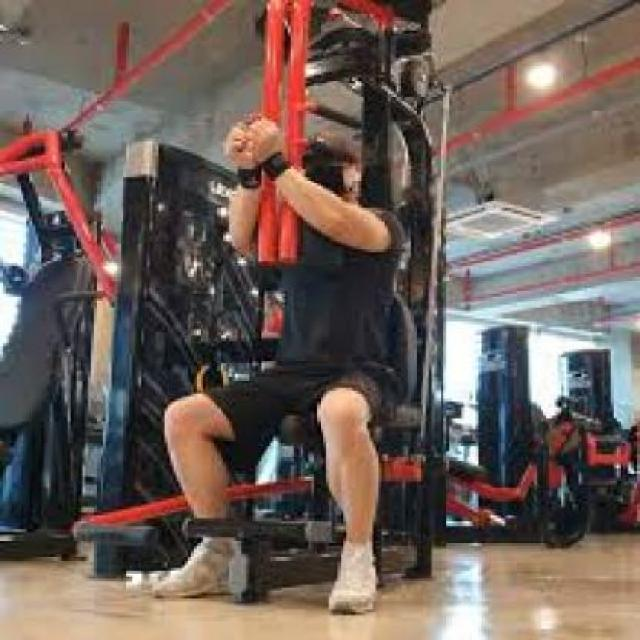chest fly machine: (71, 0, 555, 640)
